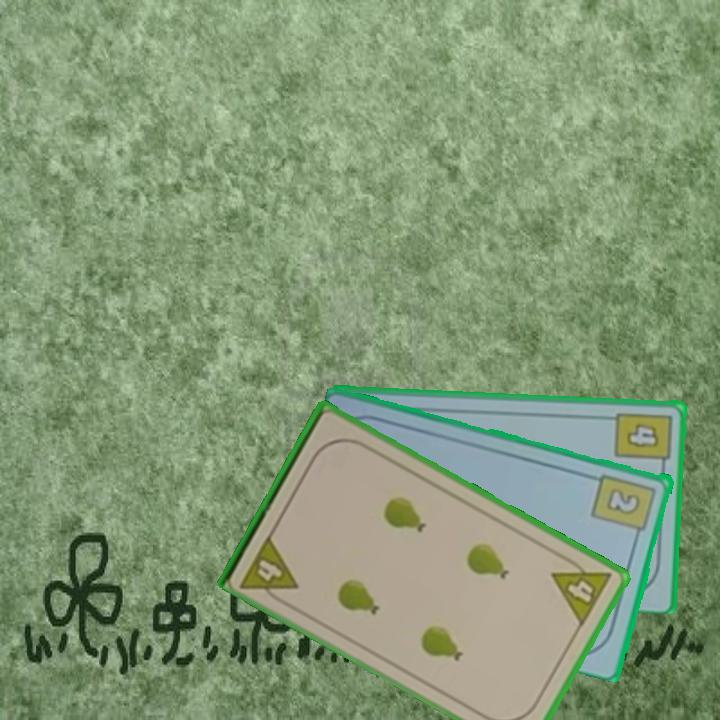2b: (589, 469, 659, 542)
4b: (611, 408, 674, 473)
4p: (548, 551, 614, 629), (236, 530, 301, 609)
